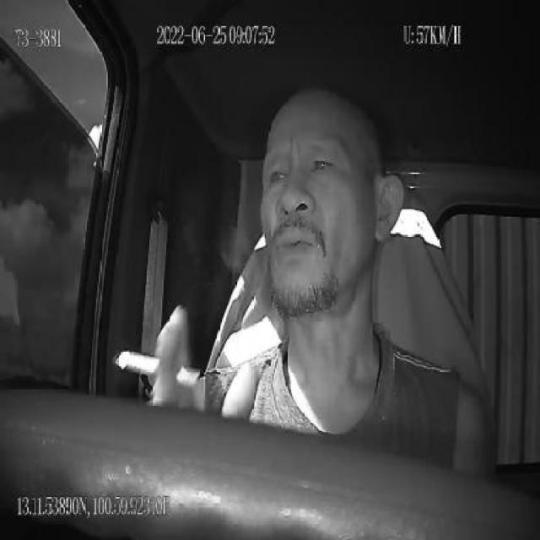smoking: (114, 346, 200, 390)
